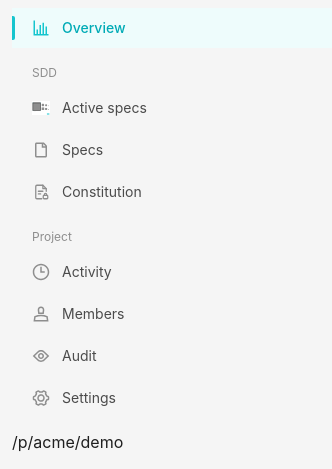
Test case: an item navigates inside the app and reports the navigation
Click the link "Settings" at (74, 398), box x1=32 y1=389 x2=116 y2=407
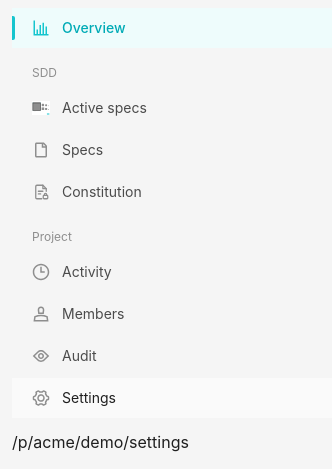
Now the text with test id "location" reads "/p/acme/demo/settings", box x1=12 y1=432 x2=189 y2=452
